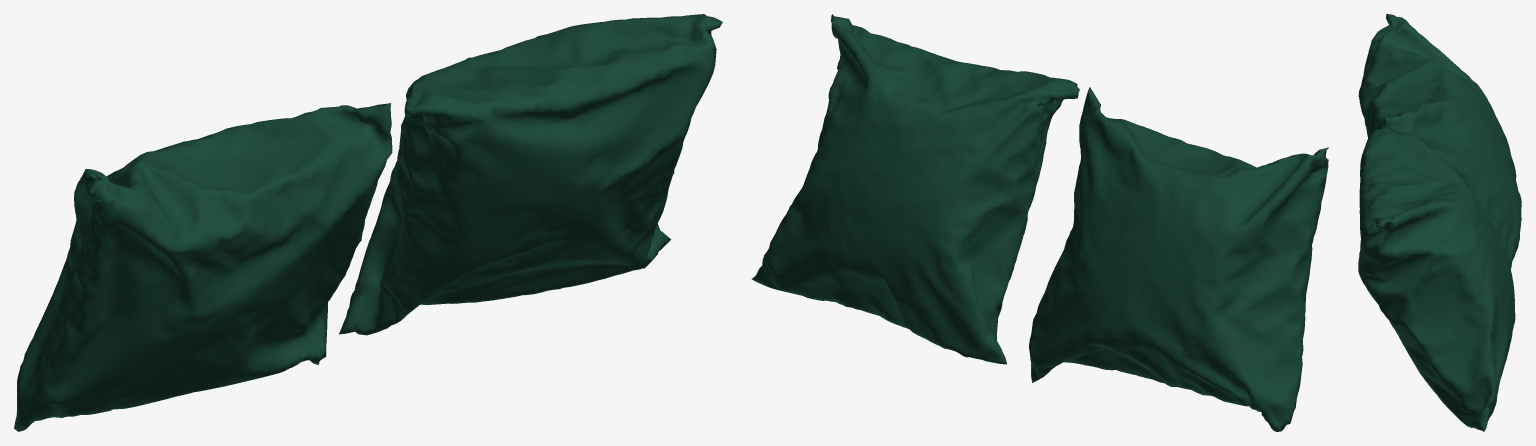
The model's file is Prop_pillow1.FBX.
3 views of the same model, side by side, from view 1: azimuth 30°, elevation 25°; view 2: azimuth 150°, elevation 25°; view 3: azimuth 270°, elevation 25° (orthographic). The views are drawn at different scales.
Parts seen in each view (by area): view 1: Pillow002, Pillow1; view 2: Pillow1, Pillow002; view 3: Pillow1, Pillow002.
Part boxes in pixels (x1,y1,x2,y2): Pillow002: [14, 103, 392, 431]; Pillow1: [339, 14, 722, 335]; Pillow1: [751, 14, 1079, 364]; Pillow002: [1029, 87, 1328, 431]; Pillow1: [1358, 126, 1515, 431]; Pillow002: [1358, 14, 1521, 267].
Bounding box in the file's own units: 66.11 × 19.92 × 30.98.
